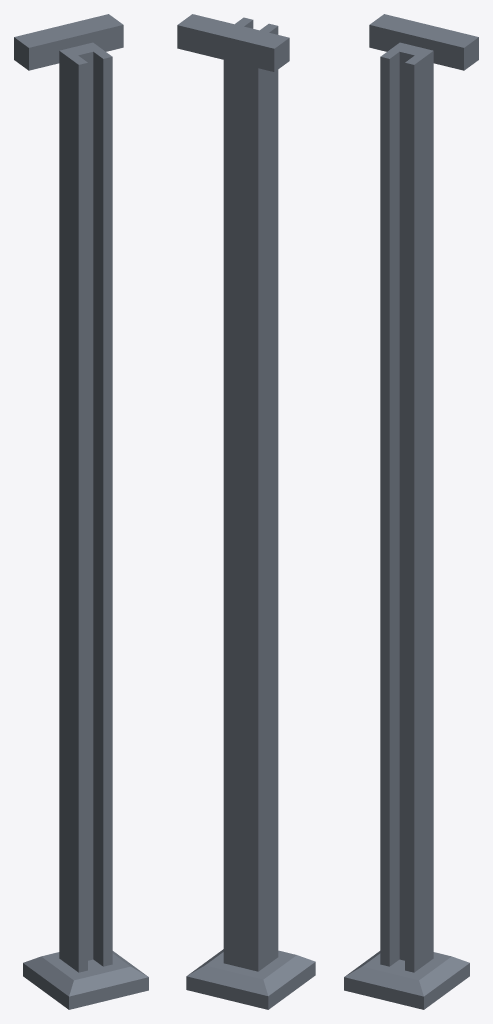
The picture shows the model from 3 angles, left to right: view 1: azimuth 30°, elevation 25°; view 2: azimuth 150°, elevation 25°; view 3: azimuth 330°, elevation 25°; orthographic projection. The views are drawn at different scales.
Visible parts, largest first — view 1: Cube.021; view 2: Cube.021; view 3: Cube.021.
Part boxes in pixels (<box>): Cube.021: <box>14,14,148,1009</box>; Cube.021: <box>177,14,315,1009</box>; Cube.021: <box>344,14,478,1009</box>.
Size of the model in its own units: 0.2762 by 2.62 by 0.2403.
